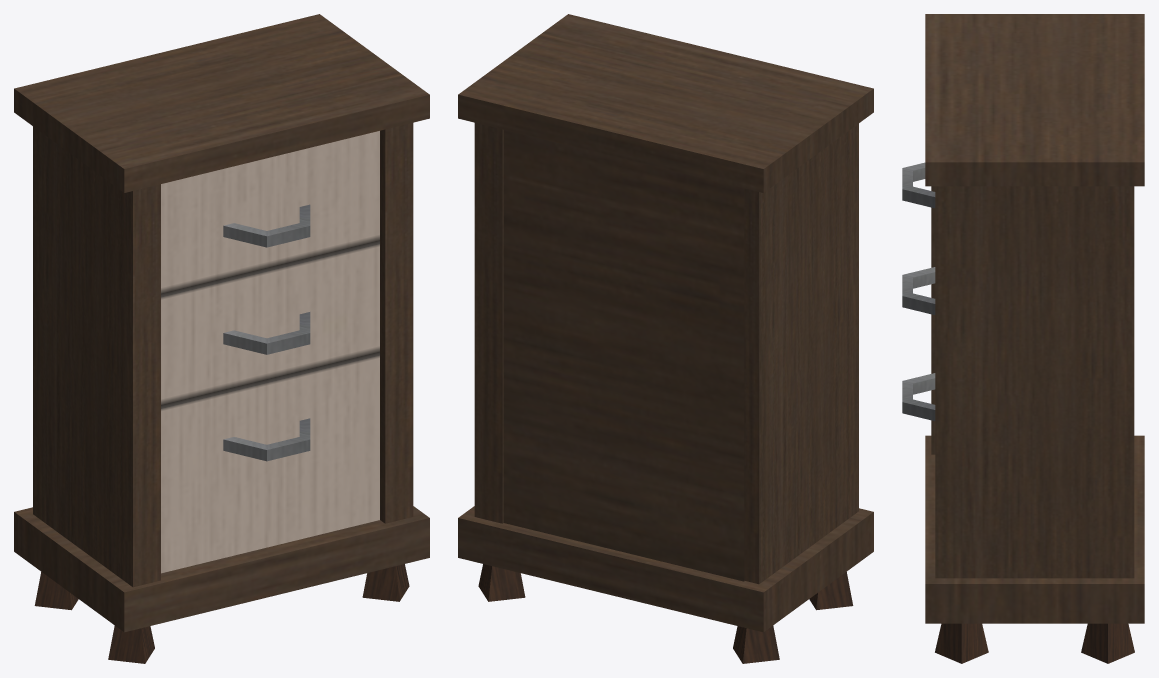
The model's file is Drawer_1B.fbx.
The picture shows the model from 3 angles, left to right: view 1: azimuth 30°, elevation 25°; view 2: azimuth 150°, elevation 25°; view 3: azimuth 270°, elevation 25°; orthographic projection.
Parts seen in each view (by area): view 1: polySurface1502; view 2: polySurface1502; view 3: polySurface1502.
Part boxes in pixels (left/top/right/bottom): polySurface1502: left=14, top=14, right=429, bottom=663; polySurface1502: left=458, top=14, right=873, bottom=663; polySurface1502: left=902, top=14, right=1144, bottom=663.
Size of the model in its own units: 1.2 by 1.9 by 0.8282.
